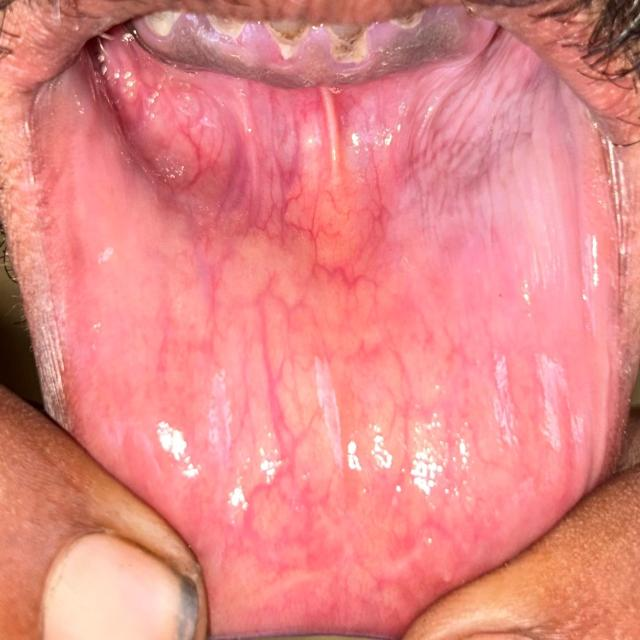leukoplakia-like-detection: (393, 31, 603, 366)
processing_area: (41, 8, 608, 632)
